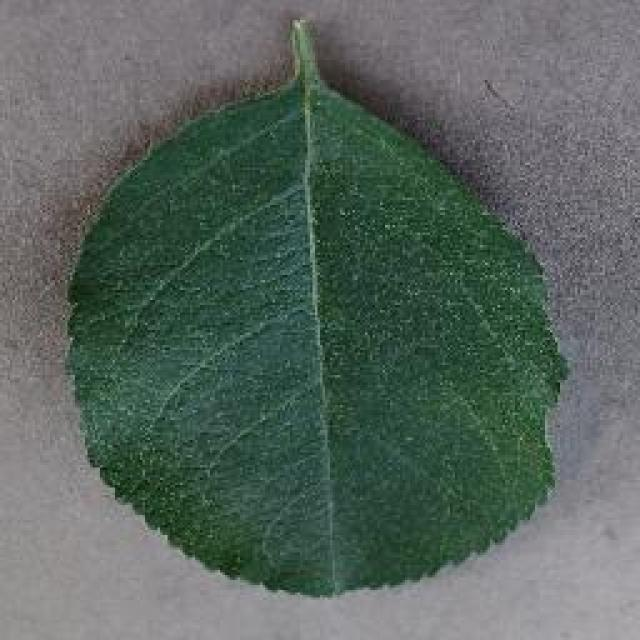apple healthy: (62, 15, 570, 597)
